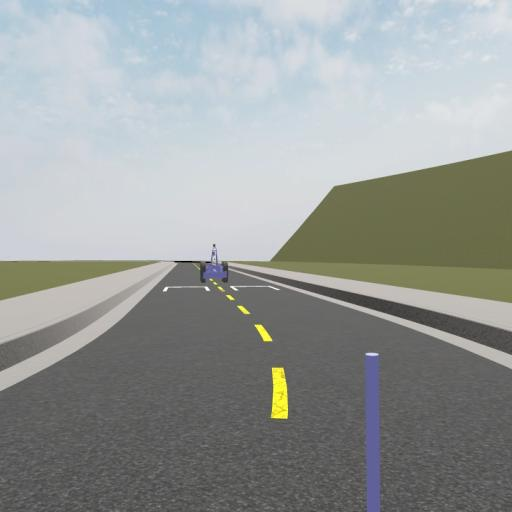ERP-42: (200, 243, 228, 284)
